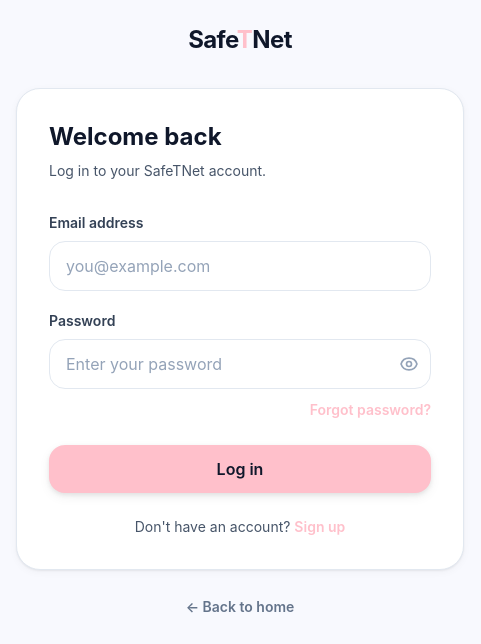
LoginPage › shows inline error when password is empty
The width and height of the screenshot is (481, 644).
Type "user@example.com" into the field labelled "Email address".
click(240, 266); type("user@example.com")  # box [49,241,431,291]
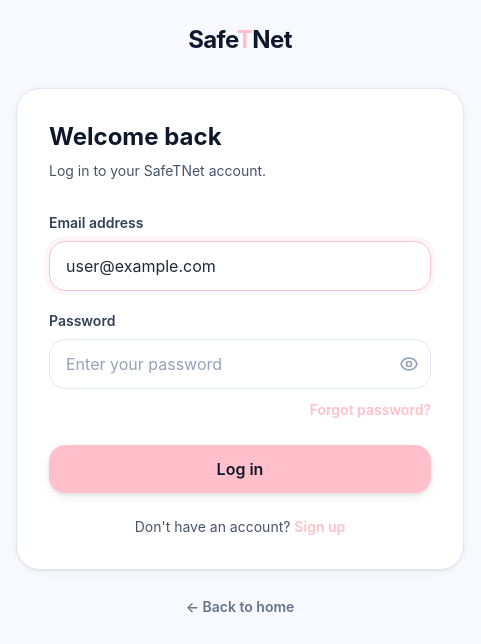
Click the button "Log in".
click(240, 469)  # box [49,445,431,493]
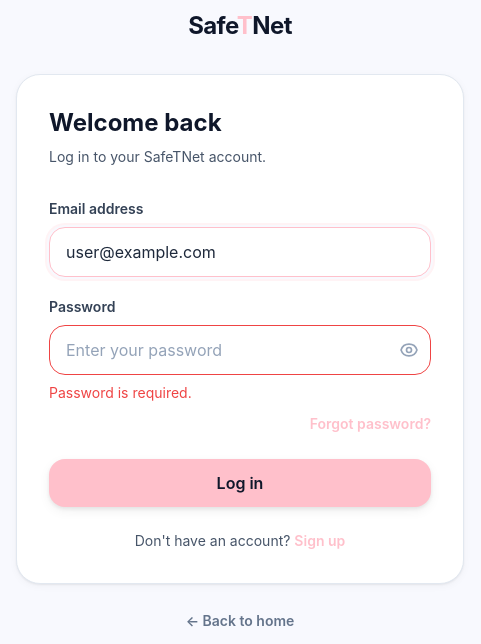
Check: the text "Password is required." is shown, box [49,384,192,401]
